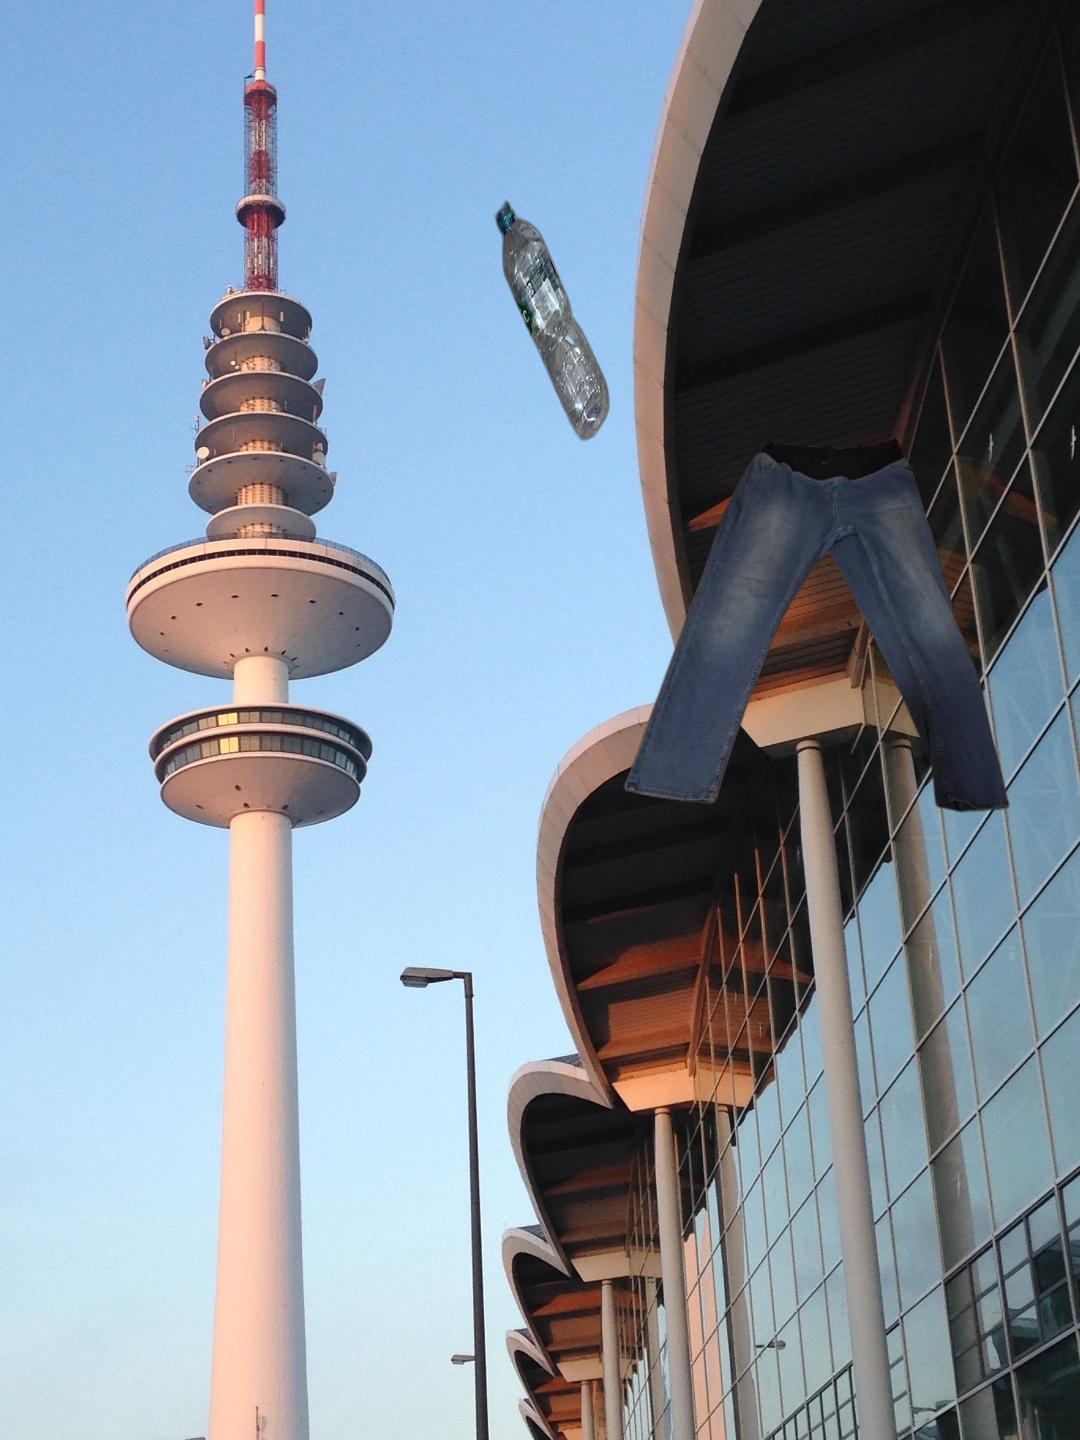clothes: (621, 432, 1021, 895)
plastic-bottles: (491, 195, 613, 444)
